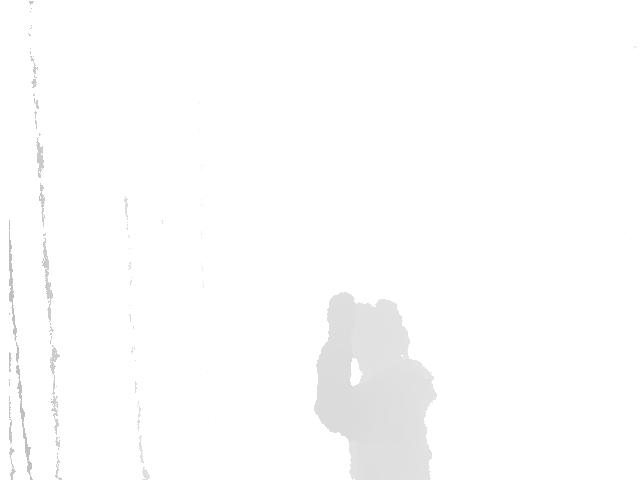hand: (326, 287, 357, 353)
head: (351, 298, 411, 375)
person: (311, 286, 442, 480)
